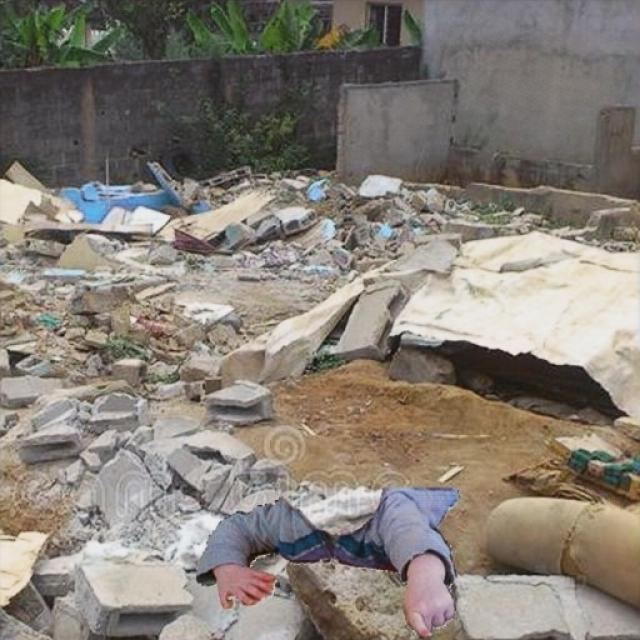Person in Rubble: (196, 488, 459, 638)
